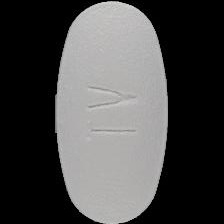0093-7295: (0, 0, 224, 224)
